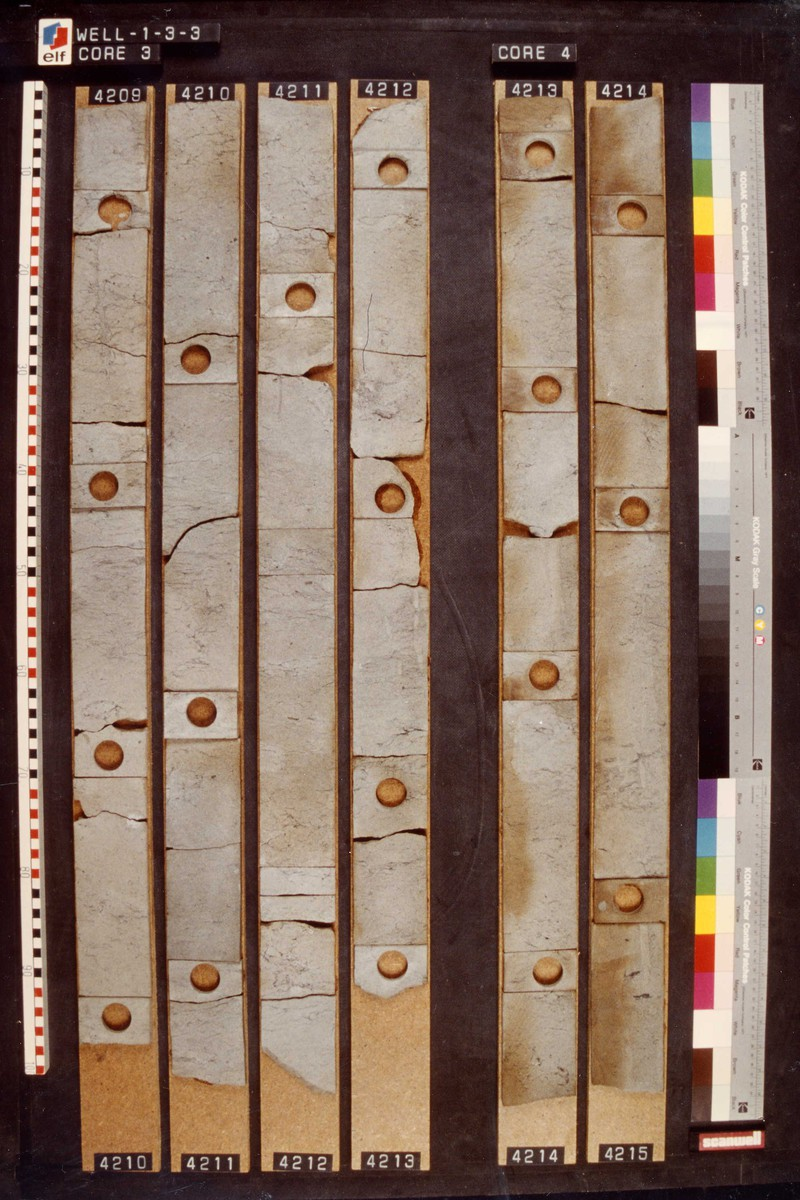core: (165, 104, 250, 1095), (586, 98, 670, 1098), (498, 93, 578, 1108), (260, 93, 340, 1096), (74, 101, 154, 1041), (354, 99, 433, 1001)
